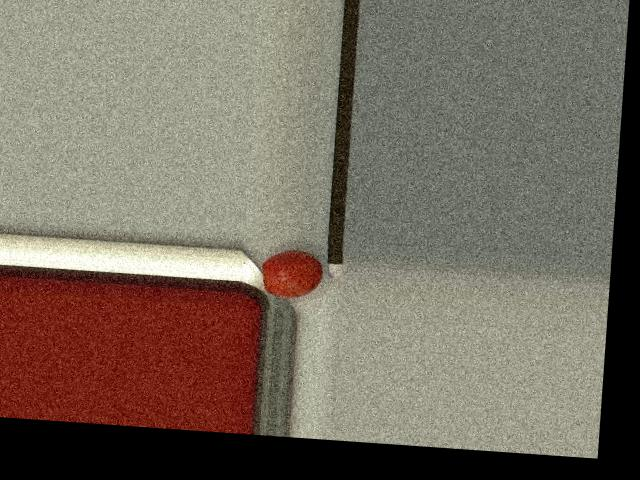tomato: (259, 247, 323, 300)
